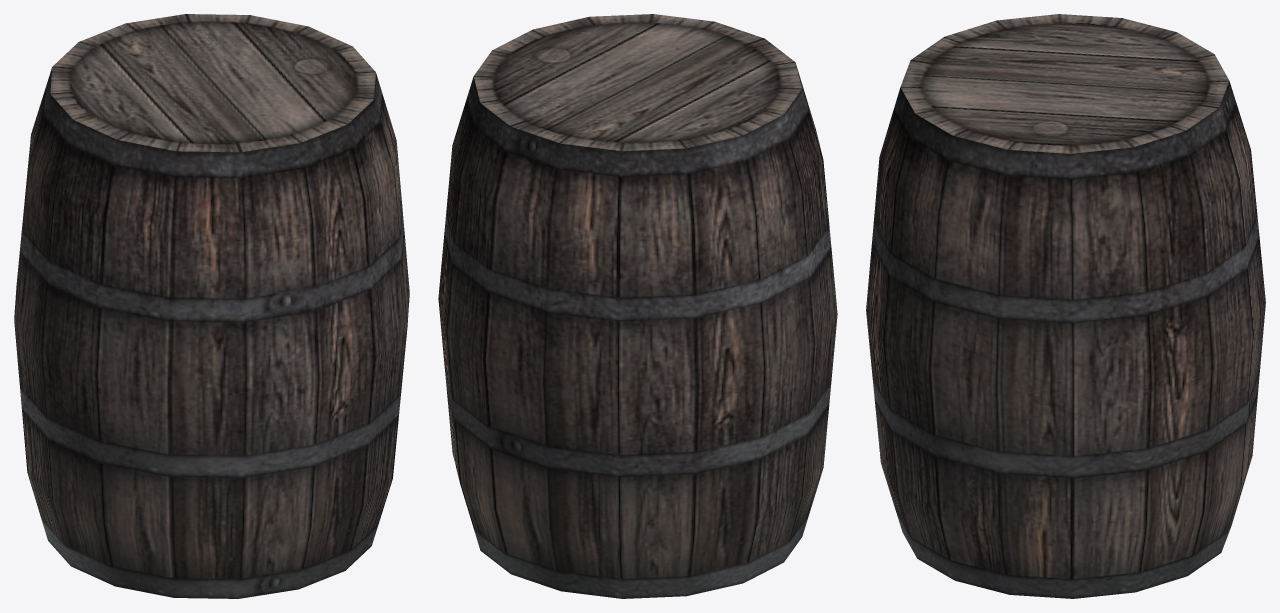
The model's file is Barrel_LOD02.fbx.
3 renders of one model, left to right at view 1: azimuth 30°, elevation 25°; view 2: azimuth 150°, elevation 25°; view 3: azimuth 270°, elevation 25°, orthographic.
Parts seen in each view (by area): view 1: Mesh Object; view 2: Mesh Object; view 3: Mesh Object.
Part boxes in pixels (x1,y1,x2,y2): Mesh Object: (14, 14, 409, 598); Mesh Object: (438, 14, 837, 598); Mesh Object: (866, 14, 1265, 598).
Bounding box in the file's own units: 0.8855 × 1.09 × 0.8855.
